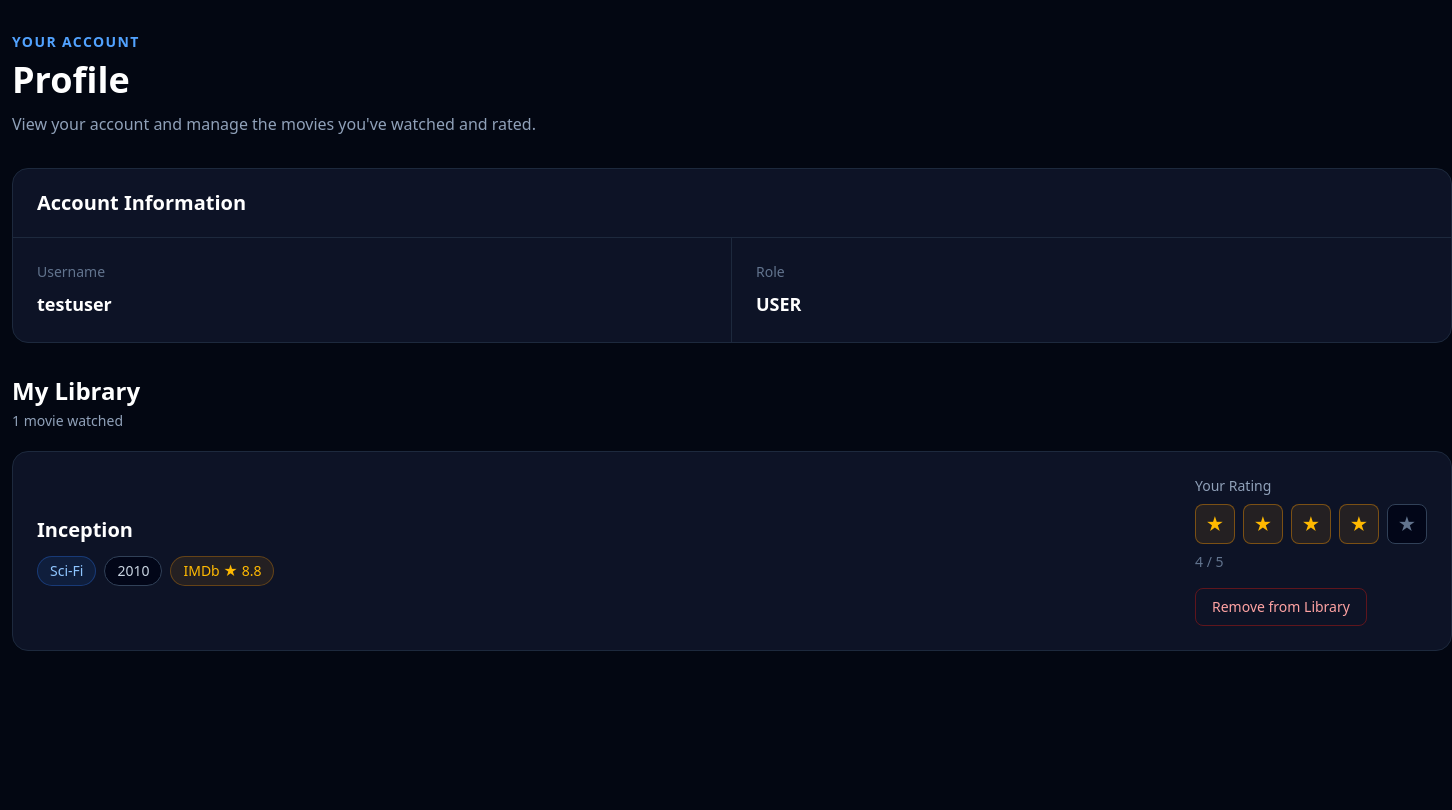
Test: Profile › removes a movie from the library
expect the link "Inception" is shown: met, box [37,516,133,543]
Click the button "Remove from Library" at (1281, 607), box [1195,588,1367,626]
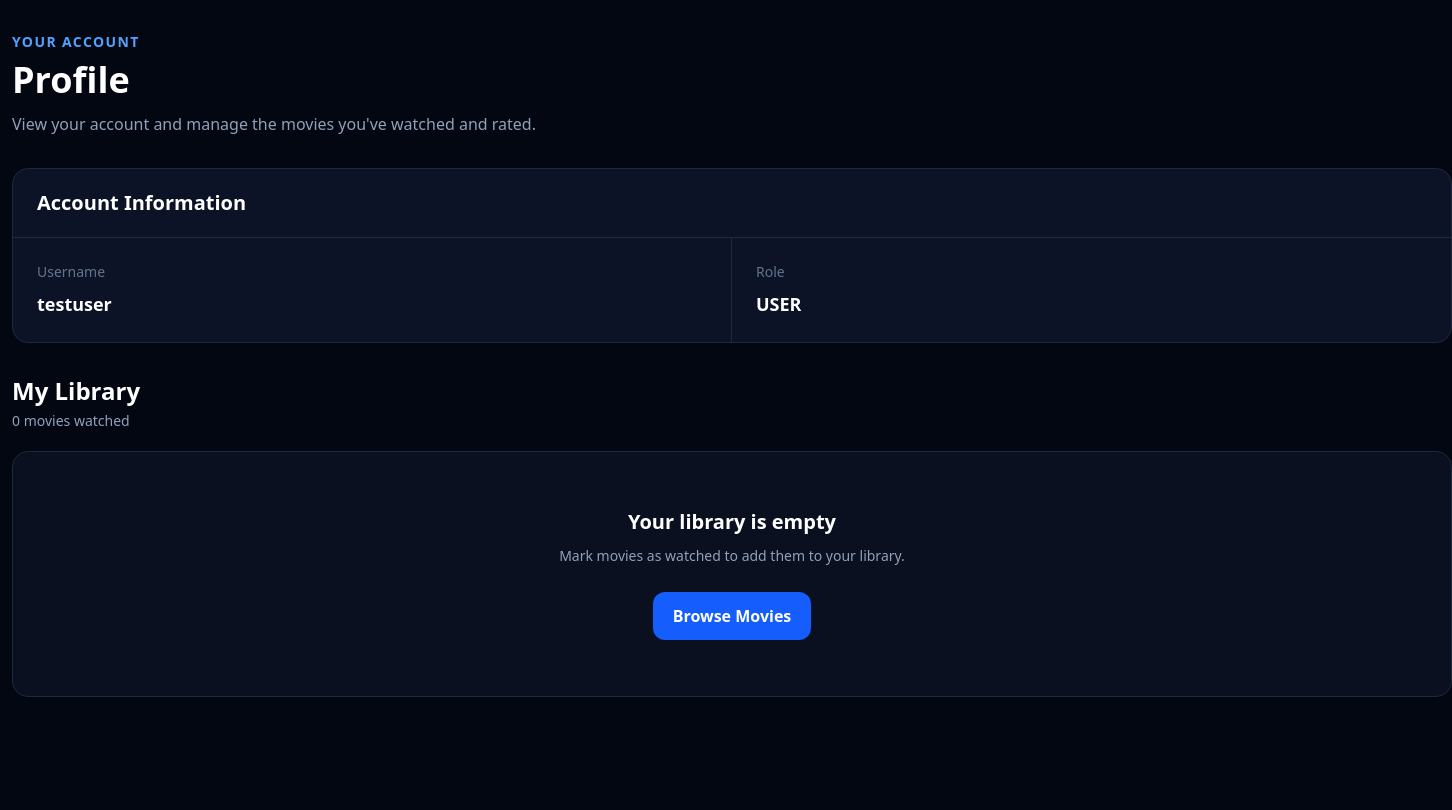
expect the link "Inception" is gone: met
expect the heading "Your library is empty" is shown: met, box [628,508,836,535]
